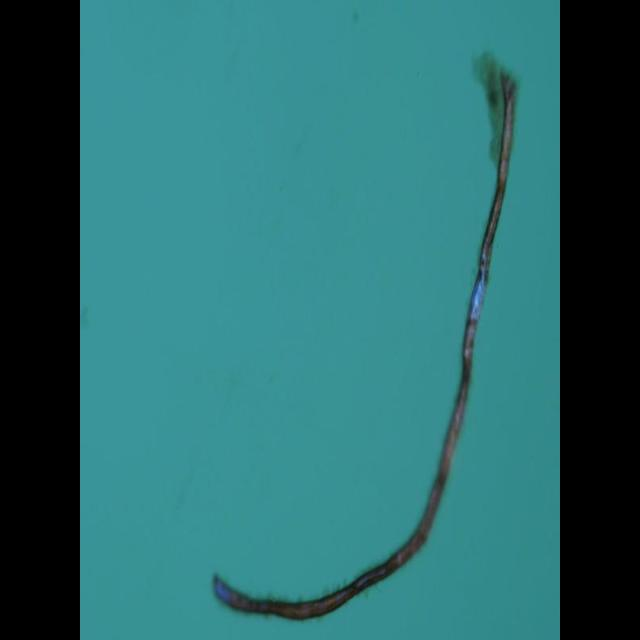Fibre: (211, 51, 517, 622)
